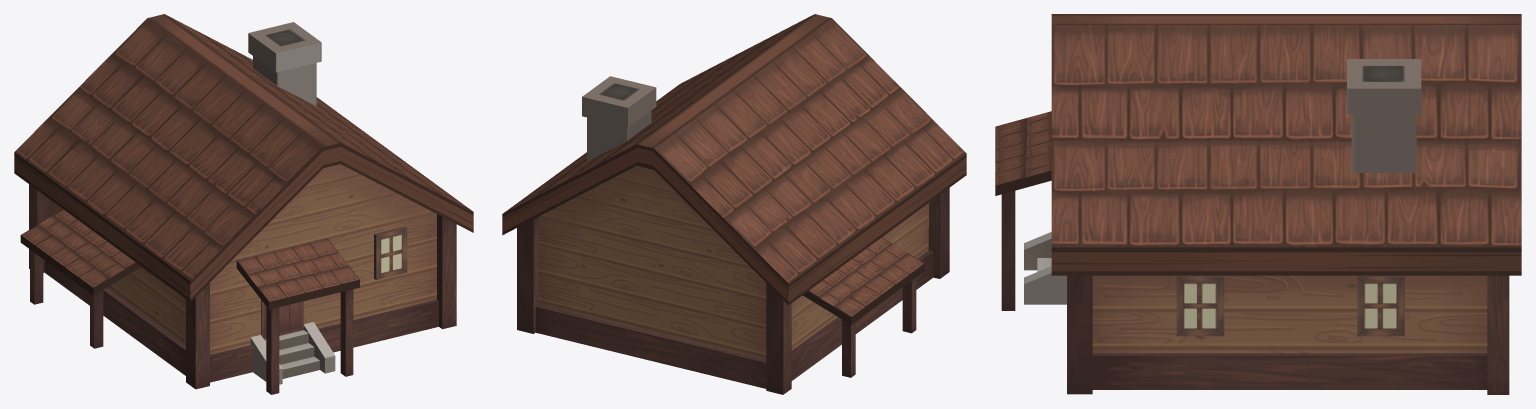
Rendered from house_Ver1.fbx.
3 views of the same model, side by side, from view 1: azimuth 30°, elevation 25°; view 2: azimuth 150°, elevation 25°; view 3: azimuth 270°, elevation 25° (orthographic). The views are drawn at different scales.
Parts seen in each view (by area): view 1: house1; view 2: house1; view 3: house1.
Part boxes in pixels (x1,y1,x2,y2): house1: [14, 14, 473, 394]; house1: [502, 14, 966, 394]; house1: [995, 14, 1521, 394].
Size of the model in its own units: 588 by 392 by 646.
